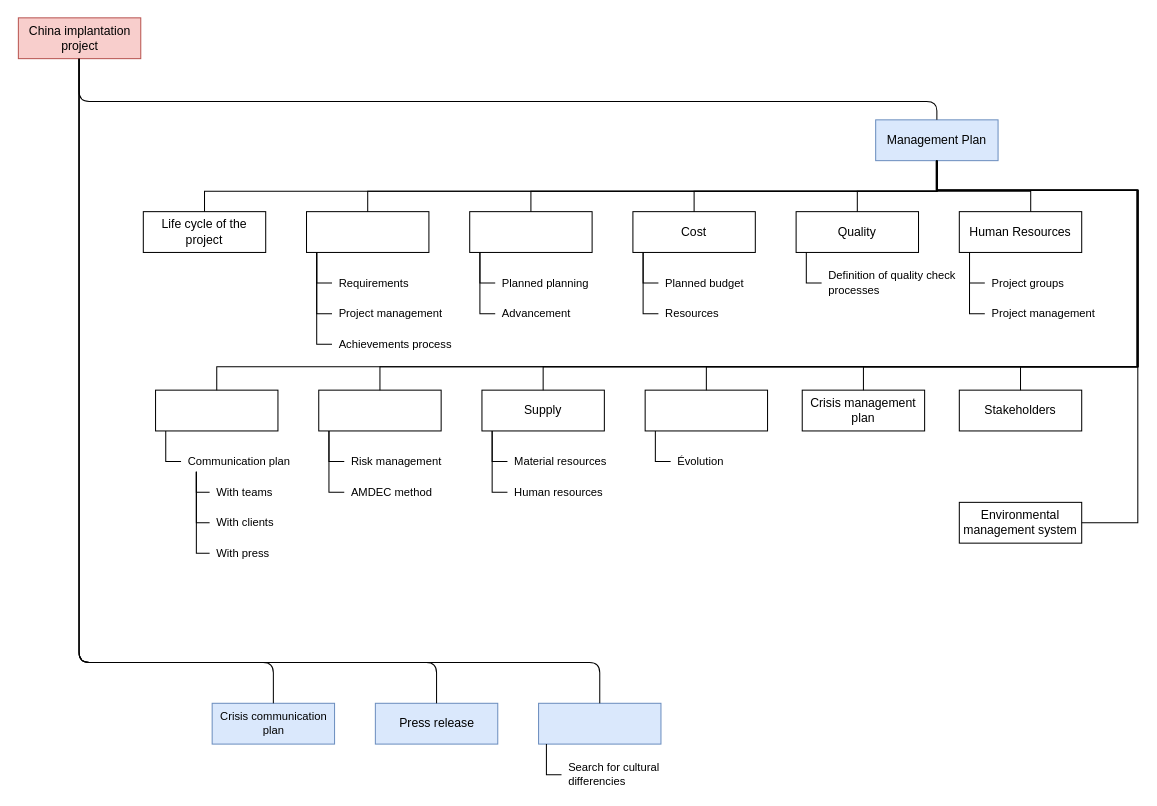
Image size: 1157x806. Some labels were removed from this diagram. Each missing label, with the centre of its shape:
"Changes management" belongs at point 706,410.
"Communication" belongs at point 216,410.
"Content" belongs at point 367,231.
"Delays" belongs at point 530,231.
"Key points of professional behavior" belongs at point 599,723.
"Risks" belongs at point 379,410.
